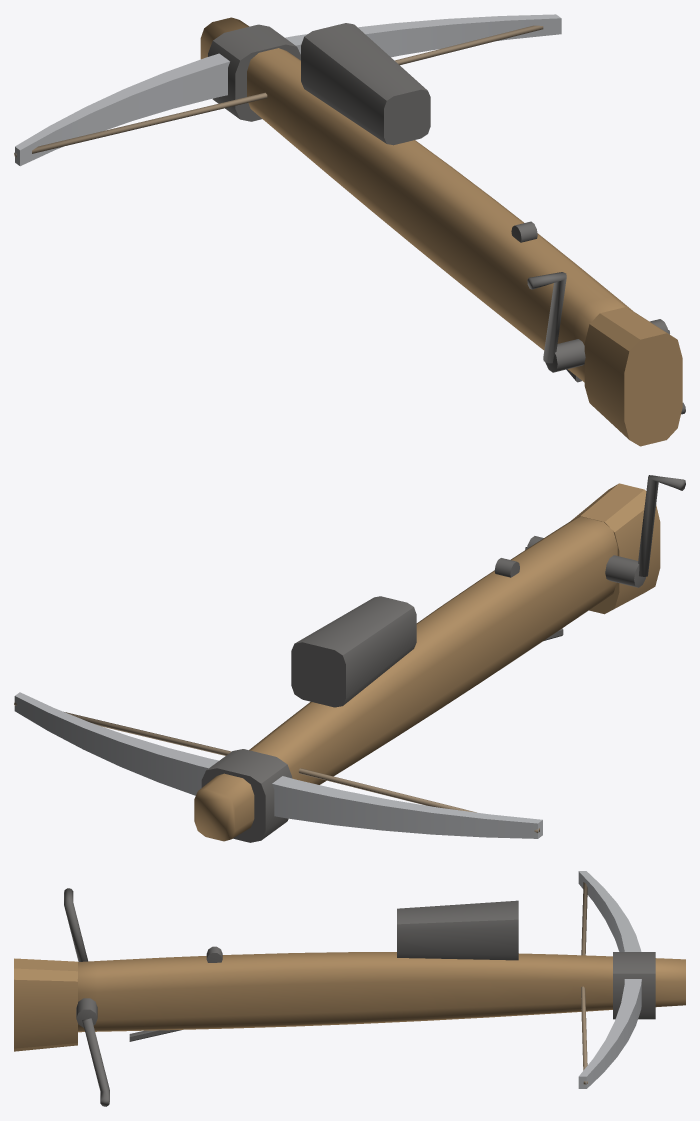
File: dwarven-heavy-pelletbow.glb
The picture shows the model from 3 angles, top to bottom: view 1: azimuth 30°, elevation 25°; view 2: azimuth 150°, elevation 25°; view 3: azimuth 270°, elevation 25°; orthographic projection. The views are drawn at different scales.
Visible parts, largest first — view 1: dwarven-heavy-pelletbow; view 2: dwarven-heavy-pelletbow; view 3: dwarven-heavy-pelletbow.
Part boxes in pixels (x1=…): dwarven-heavy-pelletbow: x1=14, y1=14, x2=685, y2=446; dwarven-heavy-pelletbow: x1=14, y1=475, x2=685, y2=842; dwarven-heavy-pelletbow: x1=14, y1=871, x2=685, y2=1106.
Size of the model in its own units: 1.6 by 0.6024 by 2.21.
